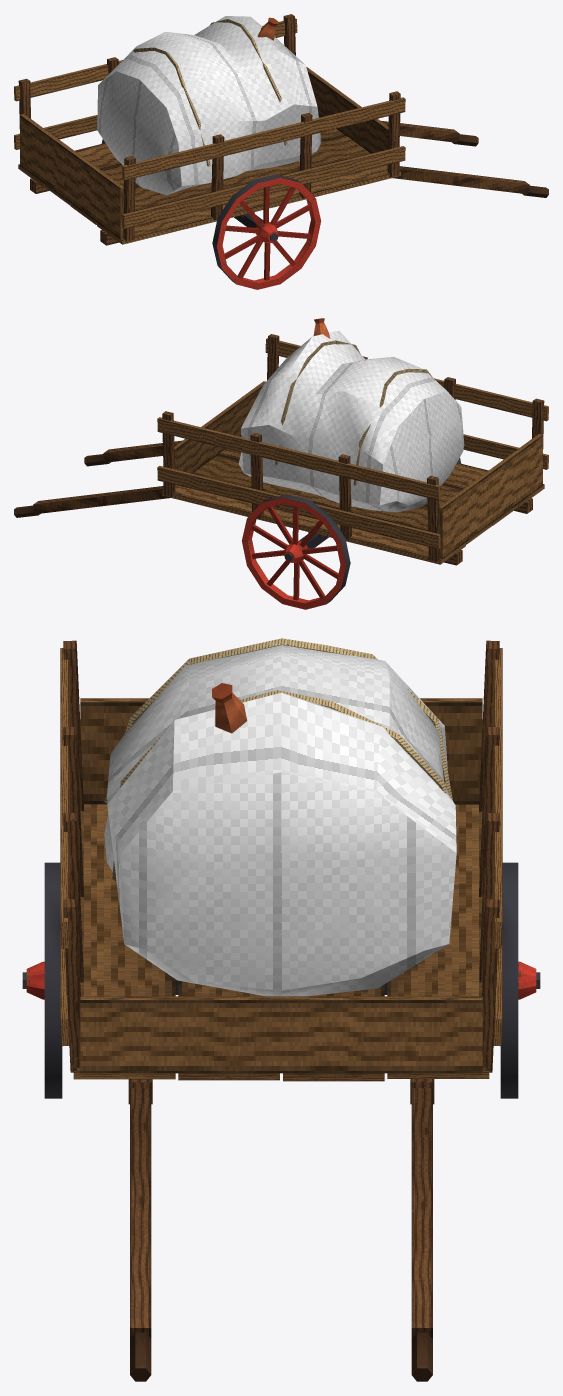
File: p_handcart.glb
The picture shows the model from 3 angles, top to bottom: view 1: azimuth 30°, elevation 25°; view 2: azimuth 150°, elevation 25°; view 3: azimuth 270°, elevation 25°; orthographic projection. The views are drawn at different scales.
Visible parts, largest first — view 1: p_handcart_lod0; view 2: p_handcart_lod0; view 3: p_handcart_lod0.
Part boxes in pixels (x1=…): p_handcart_lod0: x1=14, y1=14, x2=548, y2=289; p_handcart_lod0: x1=14, y1=318, x2=548, y2=609; p_handcart_lod0: x1=22, y1=638, x2=540, y2=1381.
Size of what is drawn, in the model's own units: 3.83 by 1.85 by 1.93.
3 materials, 2 textured.
